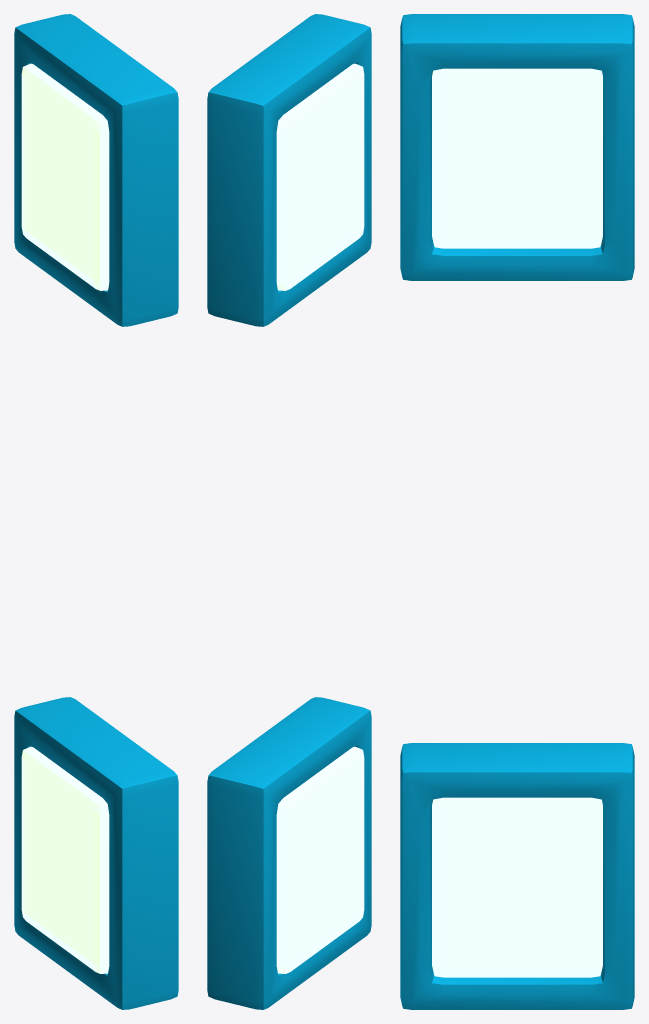
File: SM_Clay_Window_04.fbx
3 views of the same model, side by side, from view 1: azimuth 30°, elevation 25°; view 2: azimuth 150°, elevation 25°; view 3: azimuth 270°, elevation 25° (orthographic). The views are drawn at different scales.
Parts seen in each view (by area): view 1: SM_Clay_Window_04; view 2: SM_Clay_Window_04; view 3: SM_Clay_Window_04.
Part boxes in pixels (bbox=[...]): SM_Clay_Window_04: bbox=[14, 14, 178, 1009]; SM_Clay_Window_04: bbox=[207, 14, 371, 1009]; SM_Clay_Window_04: bbox=[400, 14, 634, 1009].
Size of the model in its own units: 0.1029 by 1.34 by 0.2926.
